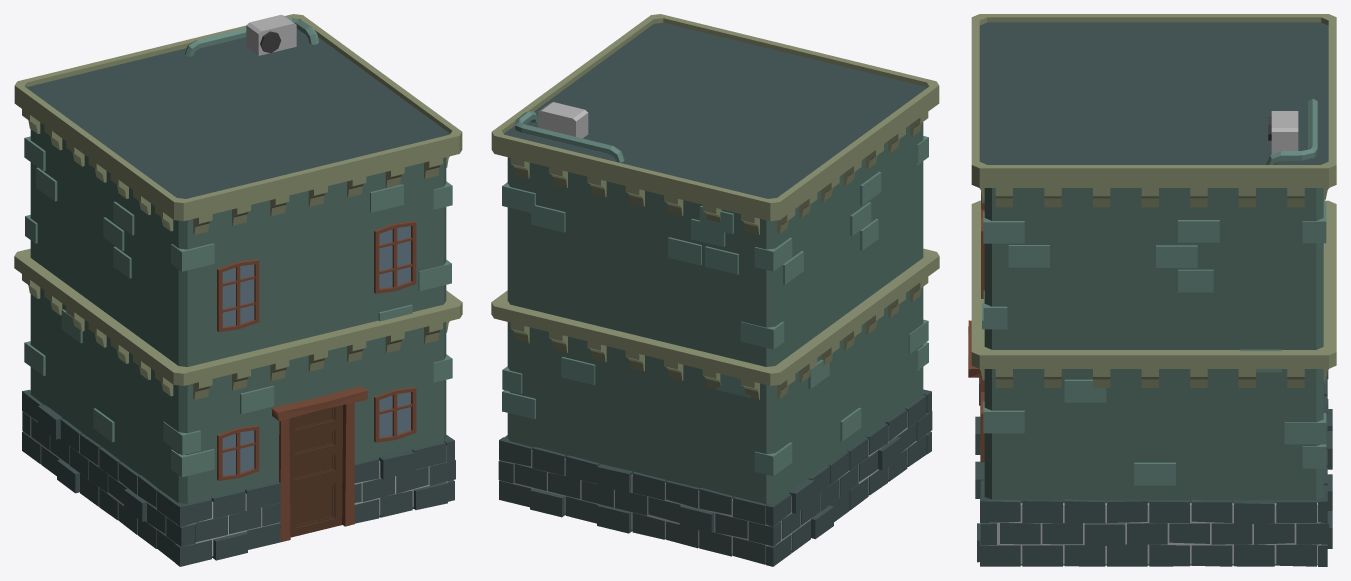
The model's file is 2Story_2.obj.
3 views of the same model, side by side, from view 1: azimuth 30°, elevation 25°; view 2: azimuth 150°, elevation 25°; view 3: azimuth 270°, elevation 25° (orthographic). The views are drawn at different scales.
Bounding box in the file's own units: 2.16 × 2.76 × 2.17.
